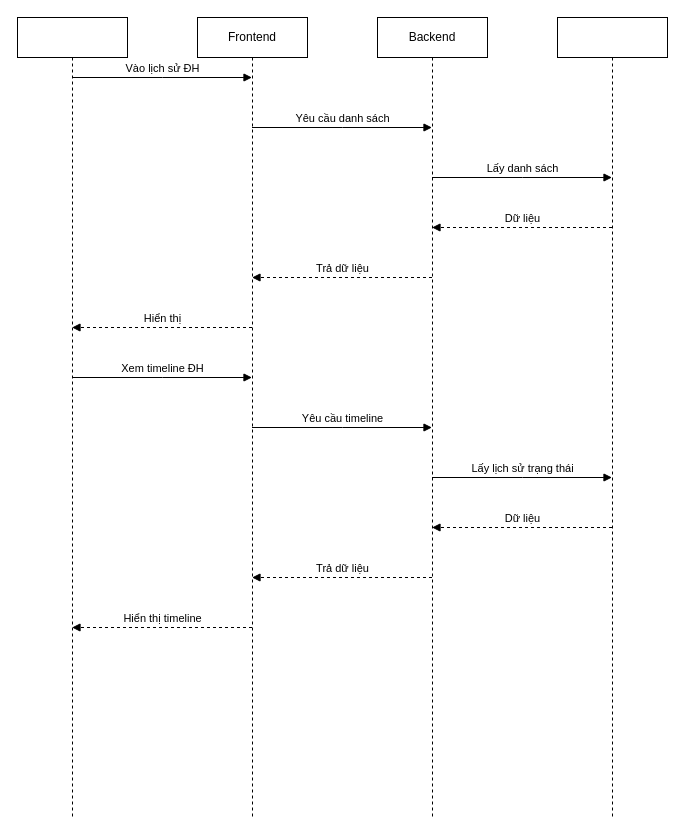
The diagram is 685 pixels wide and 835 high, and some of its shapes have lost their labels. Here are the shapes that lost their labels. From the top down, the box of each, then its label:
(16, 16, 128, 818): Khách Hàng
(556, 16, 668, 818): Database
